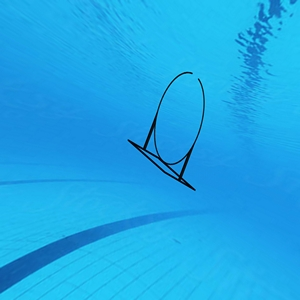circle: (126, 70, 208, 193)
